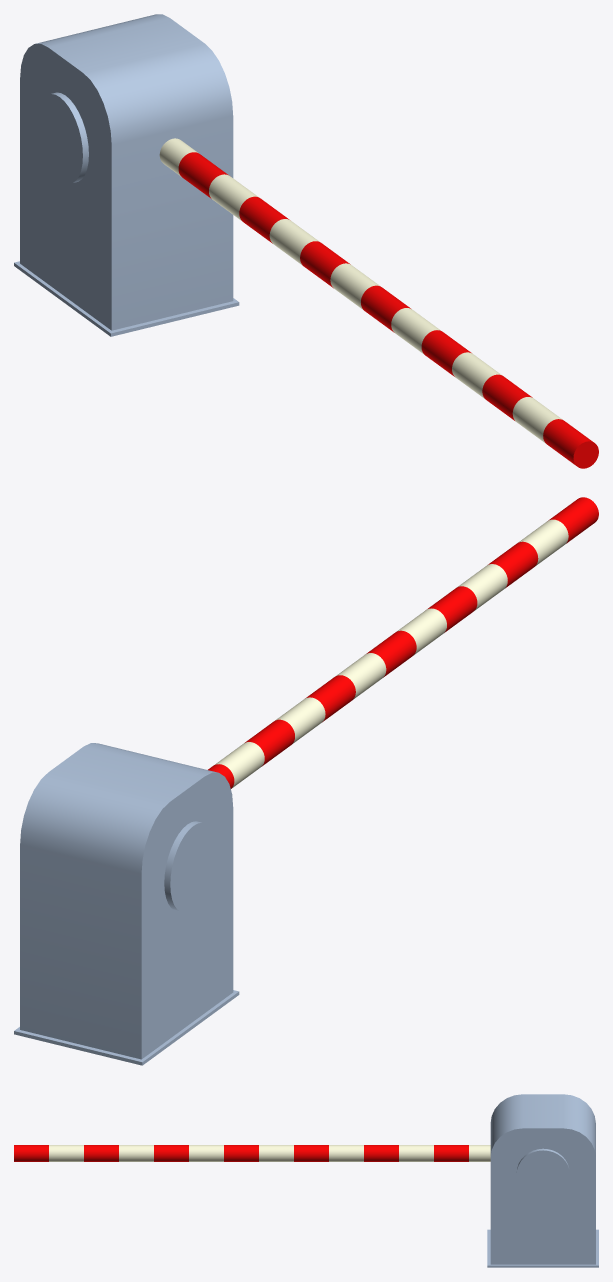
File: railroadgate.fbx
3 renders of one model, top to bottom at view 1: azimuth 30°, elevation 25°; view 2: azimuth 150°, elevation 25°; view 3: azimuth 270°, elevation 25°, orthographic. The views are drawn at different scales.
Visible parts, largest first — view 1: Cylinder.003, Cylinder.002; view 2: Cylinder.003, Cylinder.002; view 3: Cylinder.003, Cylinder.002.
Part boxes in pixels (bbox=[...]): Cylinder.003: bbox=[14, 14, 239, 336]; Cylinder.002: bbox=[159, 138, 598, 468]; Cylinder.003: bbox=[14, 743, 239, 1065]; Cylinder.002: bbox=[208, 497, 598, 788]; Cylinder.003: bbox=[487, 1094, 598, 1267]; Cylinder.002: bbox=[14, 1145, 490, 1161].
Size of the model in its own units: 306 by 527 by 2020.
Materials: 1 (1 with a texture image).
